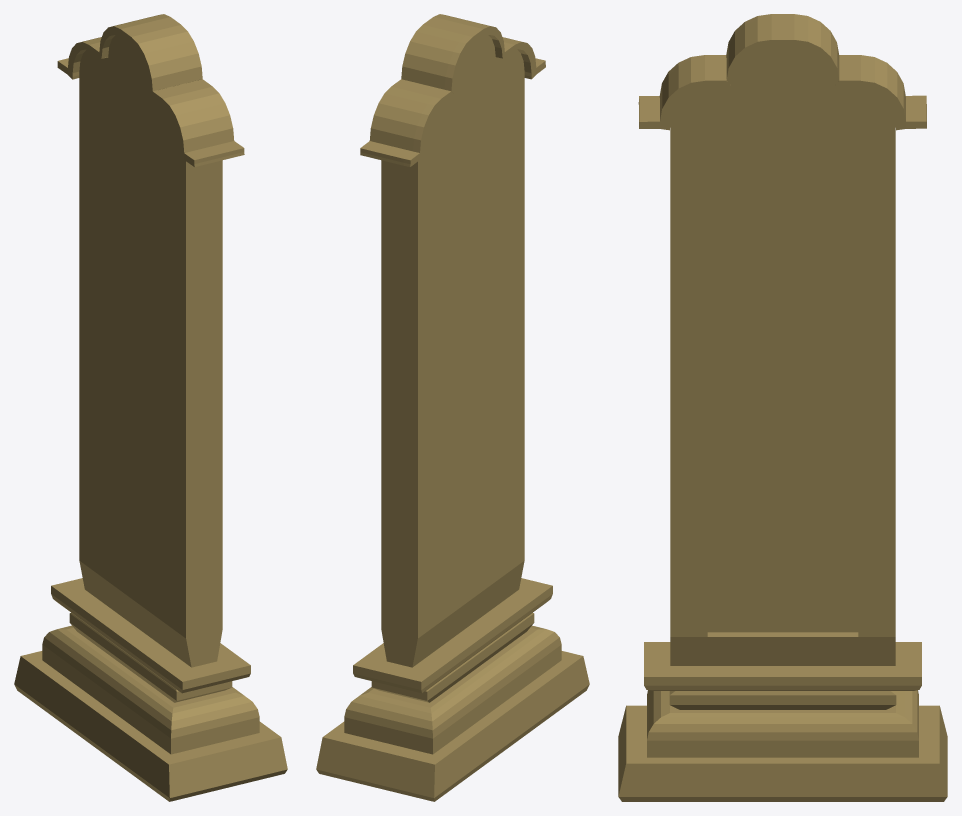
3 renders of one model, left to right at view 1: azimuth 30°, elevation 25°; view 2: azimuth 150°, elevation 25°; view 3: azimuth 270°, elevation 25°, orthographic. The views are drawn at different scales.
Visible parts, largest first — view 1: Memorial_tablet; view 2: Memorial_tablet; view 3: Memorial_tablet.
Part boxes in pixels (bbox=[...]): Memorial_tablet: bbox=[14, 14, 287, 801]; Memorial_tablet: bbox=[316, 14, 589, 801]; Memorial_tablet: bbox=[618, 14, 947, 801].
Size of the model in its own units: 69.43 by 397 by 159.
